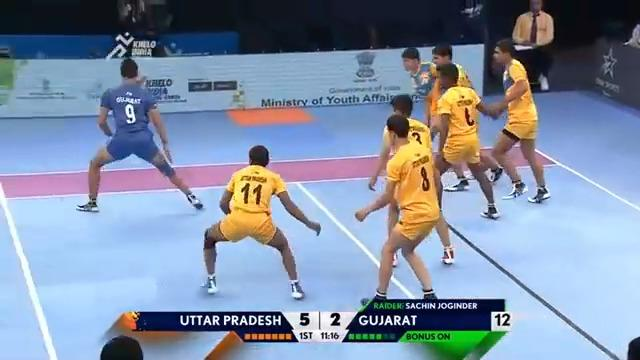Player: (198, 142, 322, 301), (355, 113, 443, 307), (426, 68, 496, 233), (483, 35, 535, 196), (396, 43, 437, 148)
Raider: (74, 56, 205, 214)
referee: (510, 0, 554, 92)
